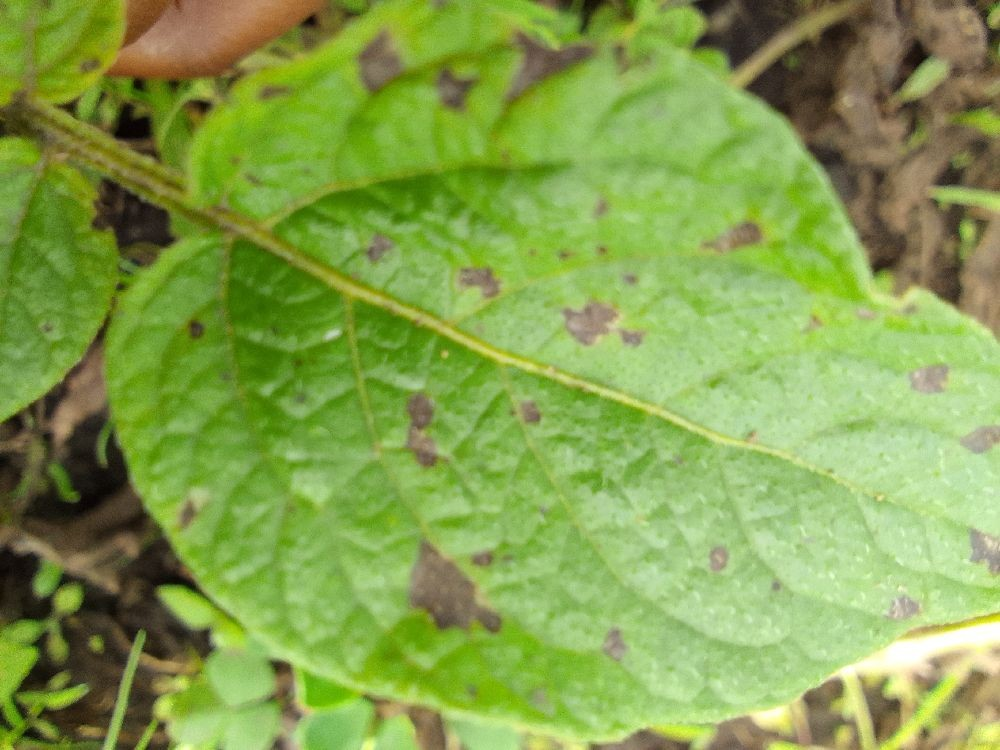late_blight: (0, 242, 269, 750), (0, 0, 404, 316), (687, 0, 999, 353), (685, 657, 882, 750)
